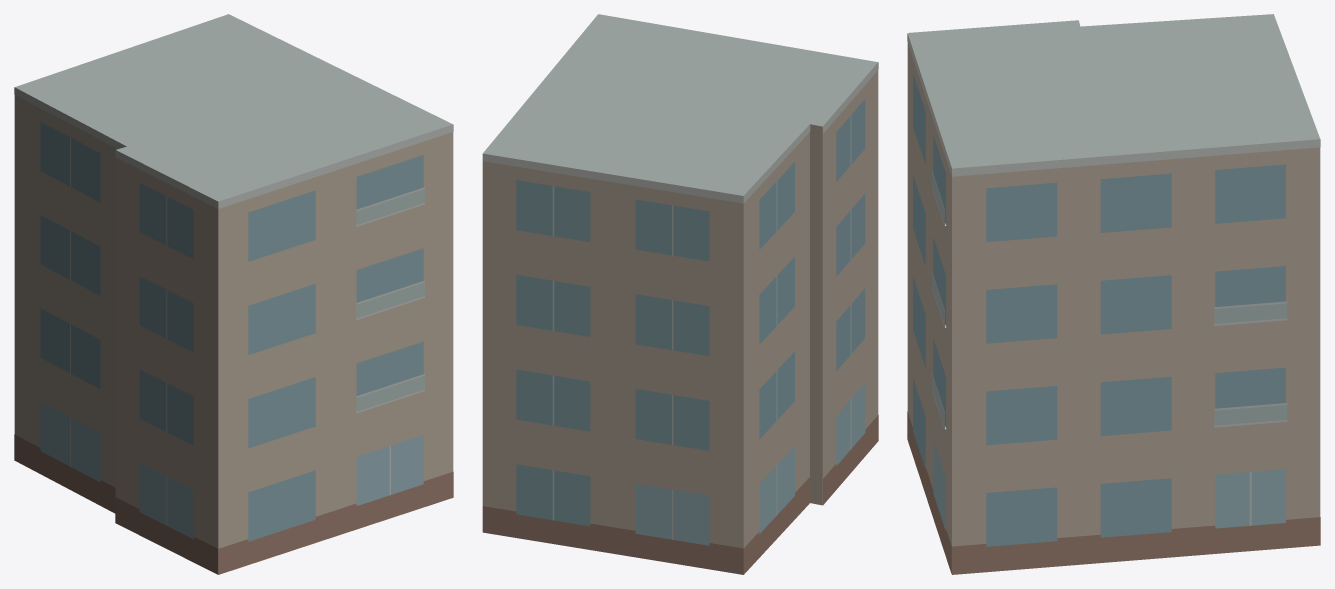
File: survey-upis-32819430.glb
3 views of the same model, side by side, from view 1: azimuth 30°, elevation 25°; view 2: azimuth 150°, elevation 25°; view 3: azimuth 270°, elevation 25° (orthographic). The views are drawn at different scales.
Parts seen in each view (by area): view 1: survey-upis-32819430.tmp; view 2: survey-upis-32819430.tmp; view 3: survey-upis-32819430.tmp.
Part boxes in pixels (x1=…): survey-upis-32819430.tmp: x1=14, y1=14, x2=453, y2=574; survey-upis-32819430.tmp: x1=482, y1=14, x2=878, y2=574; survey-upis-32819430.tmp: x1=907, y1=14, x2=1320, y2=574.
Size of the model in its own units: 9.97 by 12.2 by 11.25.
